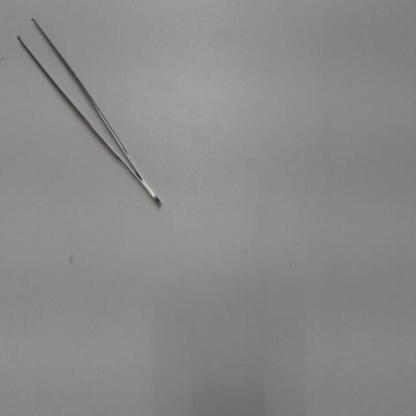Gillies Toothed Dissector: (12, 9, 168, 214)
